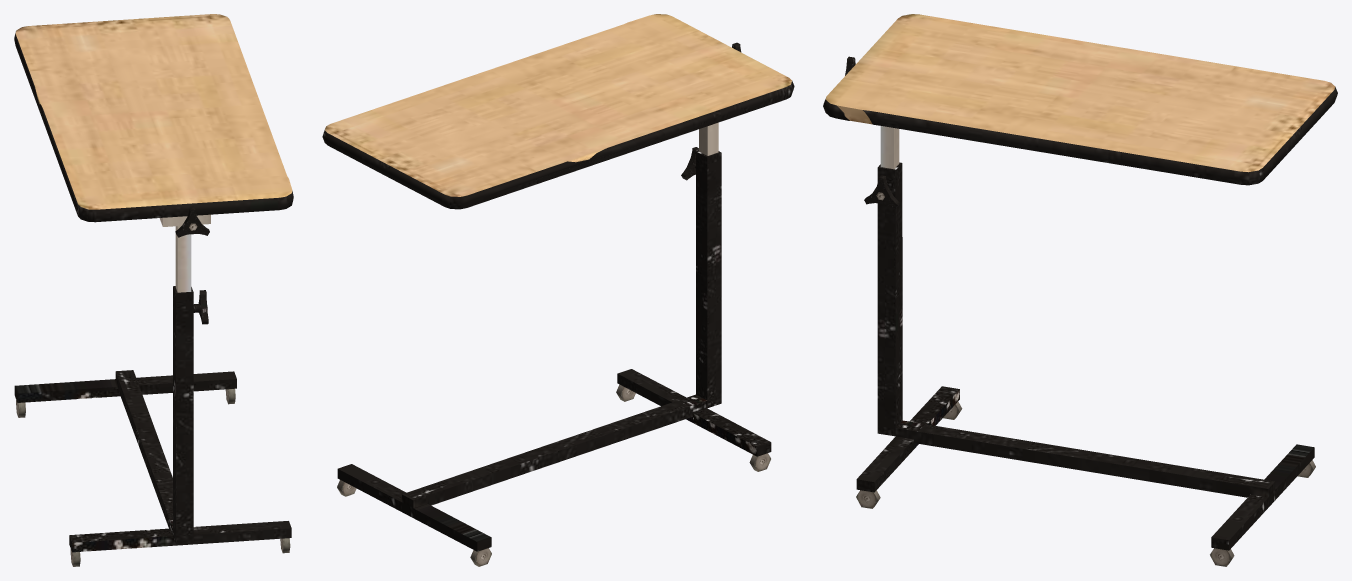
Rendered from mesaFeia.fbx.
The picture shows the model from 3 angles, left to right: view 1: azimuth 30°, elevation 25°; view 2: azimuth 150°, elevation 25°; view 3: azimuth 270°, elevation 25°; orthographic projection. The views are drawn at different scales.
Parts seen in each view (by area): view 1: Quarto_A_Mesa.001; view 2: Quarto_A_Mesa.001; view 3: Quarto_A_Mesa.001.
Part boxes in pixels (left/top/right/bottom): Quarto_A_Mesa.001: left=14, top=14, right=293, bottom=566; Quarto_A_Mesa.001: left=322, top=14, right=794, bottom=566; Quarto_A_Mesa.001: left=823, top=14, right=1337, bottom=566.
Size of the model in its own units: 7477 by 8667 by 10185.
